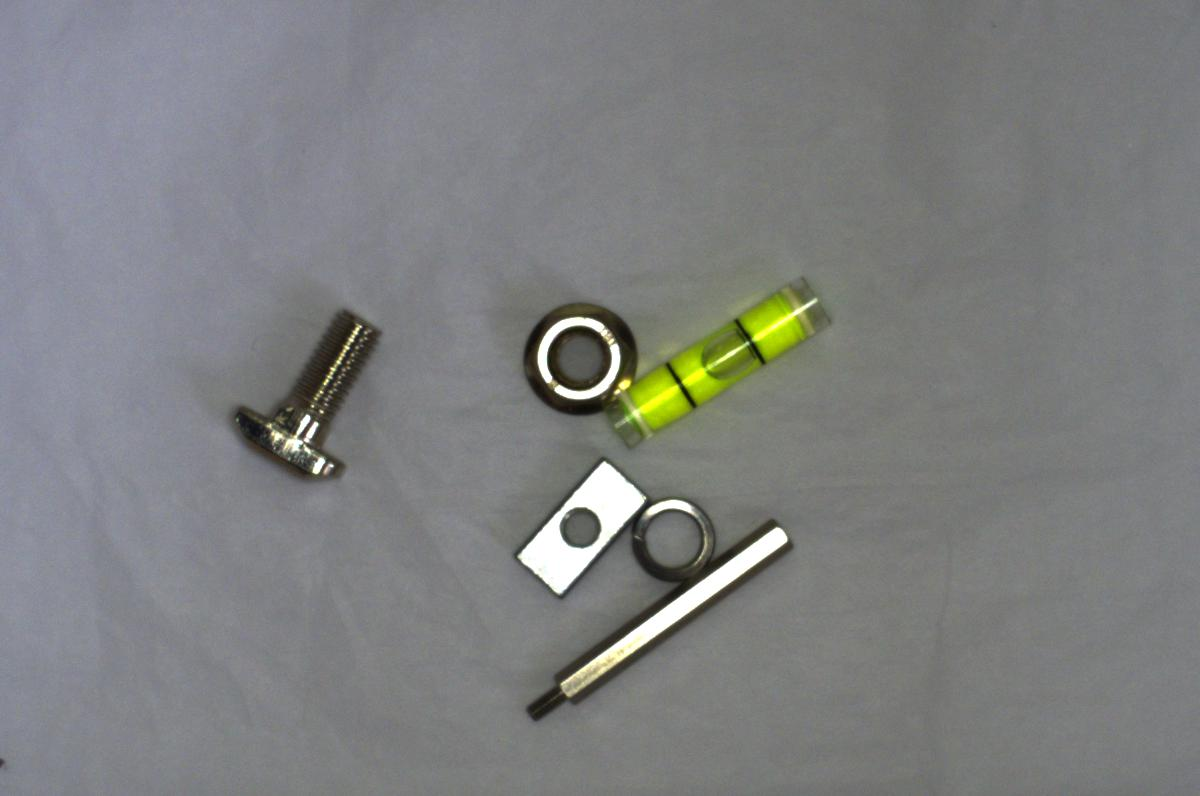Flange nut: (518, 287, 637, 419)
Hexagonal steel column: (518, 522, 792, 715)
Horizontal bubble: (602, 275, 844, 453)
Rectangular nut: (512, 459, 645, 599)
Spring washer: (626, 499, 718, 583)
T-shaped screw: (215, 293, 385, 486)
